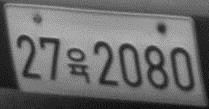0: (118, 42, 142, 87)
2: (92, 39, 119, 87), (15, 33, 42, 80)
7: (38, 35, 60, 81)
8: (143, 45, 170, 90), (169, 47, 195, 91)
육: (65, 47, 92, 86)
